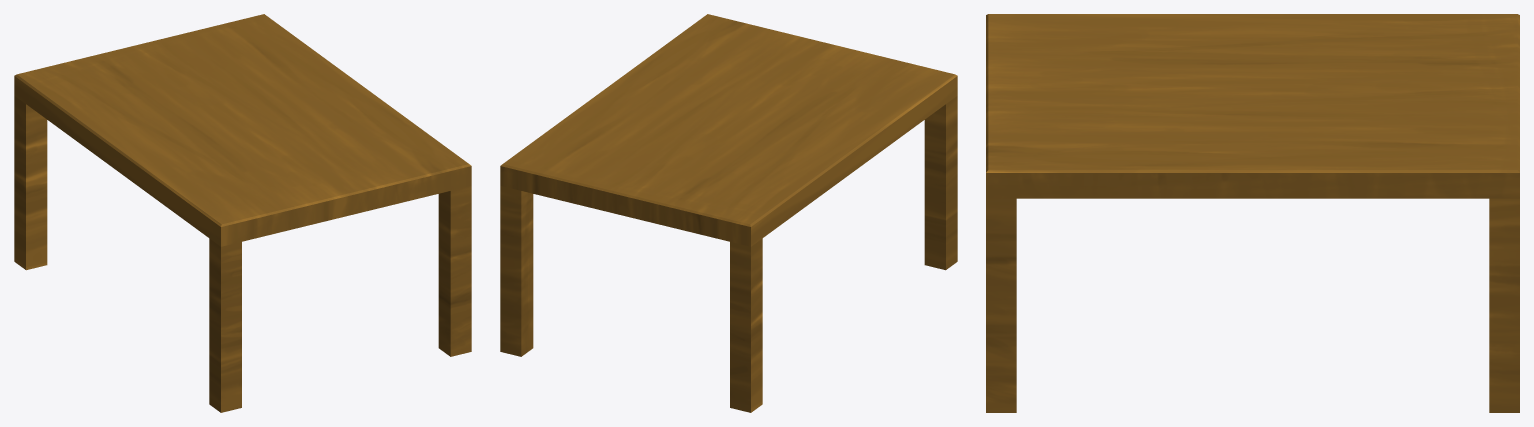
Rendered from Table.fbx.
The picture shows the model from 3 angles, left to right: view 1: azimuth 30°, elevation 25°; view 2: azimuth 150°, elevation 25°; view 3: azimuth 270°, elevation 25°; orthographic projection. The views are drawn at different scales.
Parts seen in each view (by area): view 1: Table; view 2: Table; view 3: Table.
Part boxes in pixels (left/top/right/bottom): Table: left=14, top=14, right=471, bottom=412; Table: left=500, top=14, right=957, bottom=412; Table: left=986, top=14, right=1519, bottom=412.
Bounding box in the file's own units: 140 × 100 × 200.
Materials: 1 (1 with a texture image).
